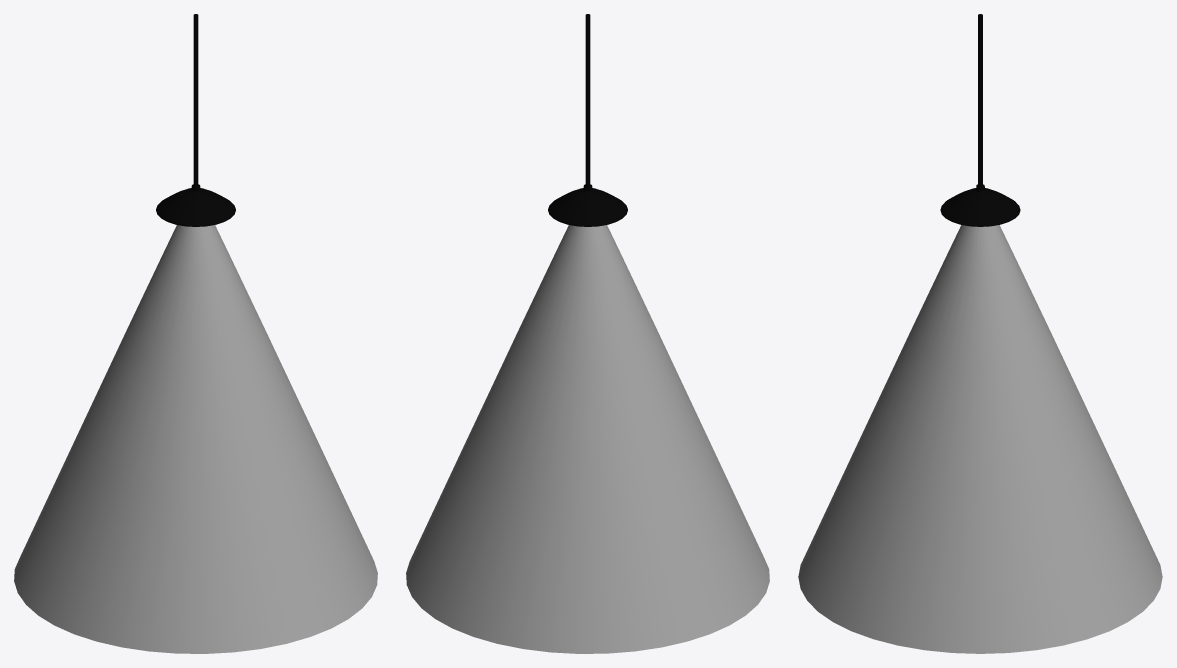
Rendered from CeilingLight.fbx.
3 renders of one model, left to right at view 1: azimuth 30°, elevation 25°; view 2: azimuth 150°, elevation 25°; view 3: azimuth 270°, elevation 25°, orthographic.
Visible parts, largest first — view 1: LightConeShape, LightLid; view 2: LightConeShape, LightLid; view 3: LightConeShape, LightLid.
Part boxes in pixels (left/top/right/bottom): LightConeShape: left=14, top=225, right=377, bottom=653; LightLid: left=156, top=14, right=235, bottom=226; LightConeShape: left=406, top=225, right=769, bottom=653; LightLid: left=548, top=14, right=627, bottom=226; LightConeShape: left=798, top=225, right=1162, bottom=653; LightLid: left=940, top=14, right=1020, bottom=226.
Size of the model in its own units: 177 by 302 by 177.
Materials: 2 (1 with a texture image).
